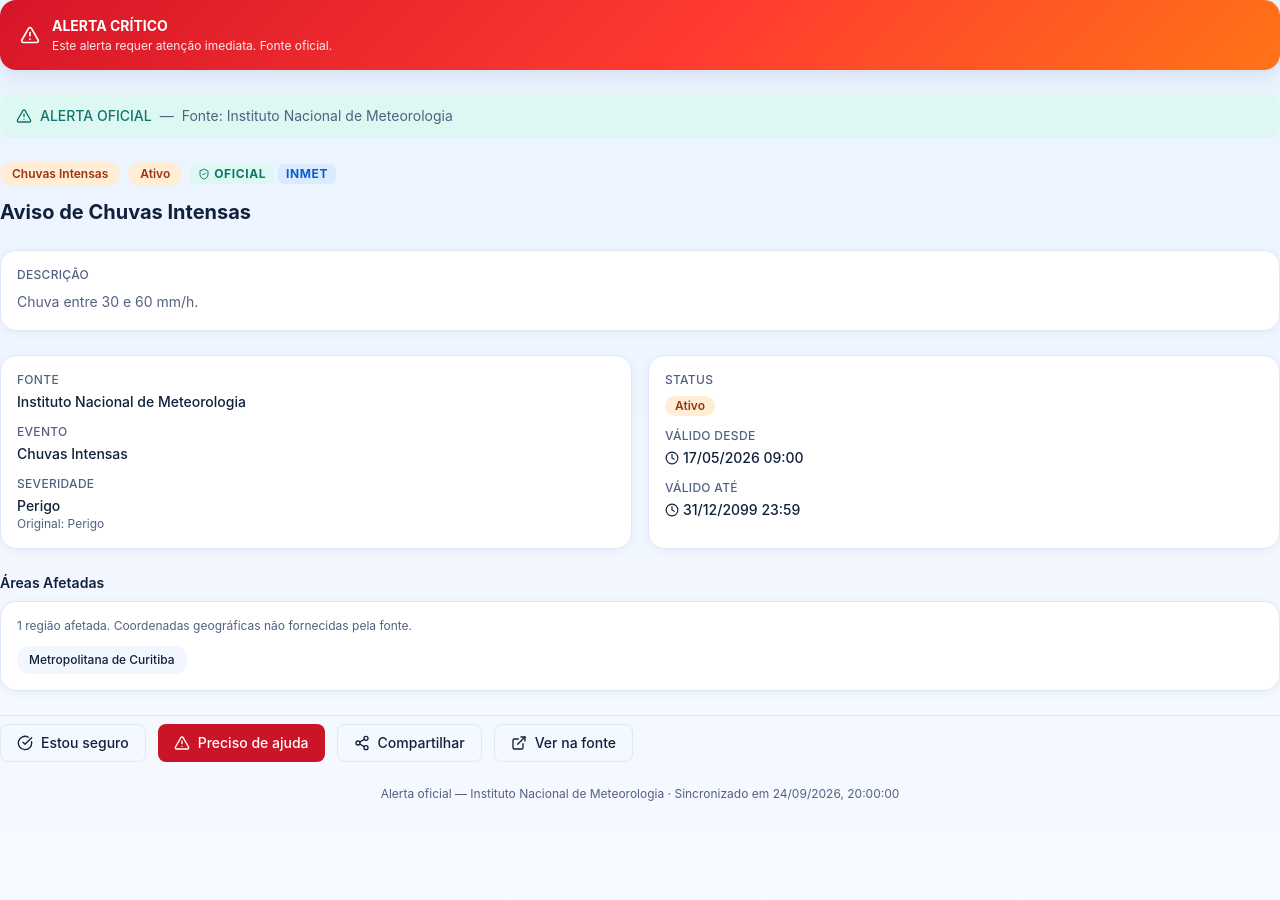
Test: OfficialAlertDetail citizen actions › "Preciso de ajuda" opens a dialog with official emergency numbers and no fake submission
Click the button "Preciso de ajuda" at x=241, y=743, box [158,724,324,762]
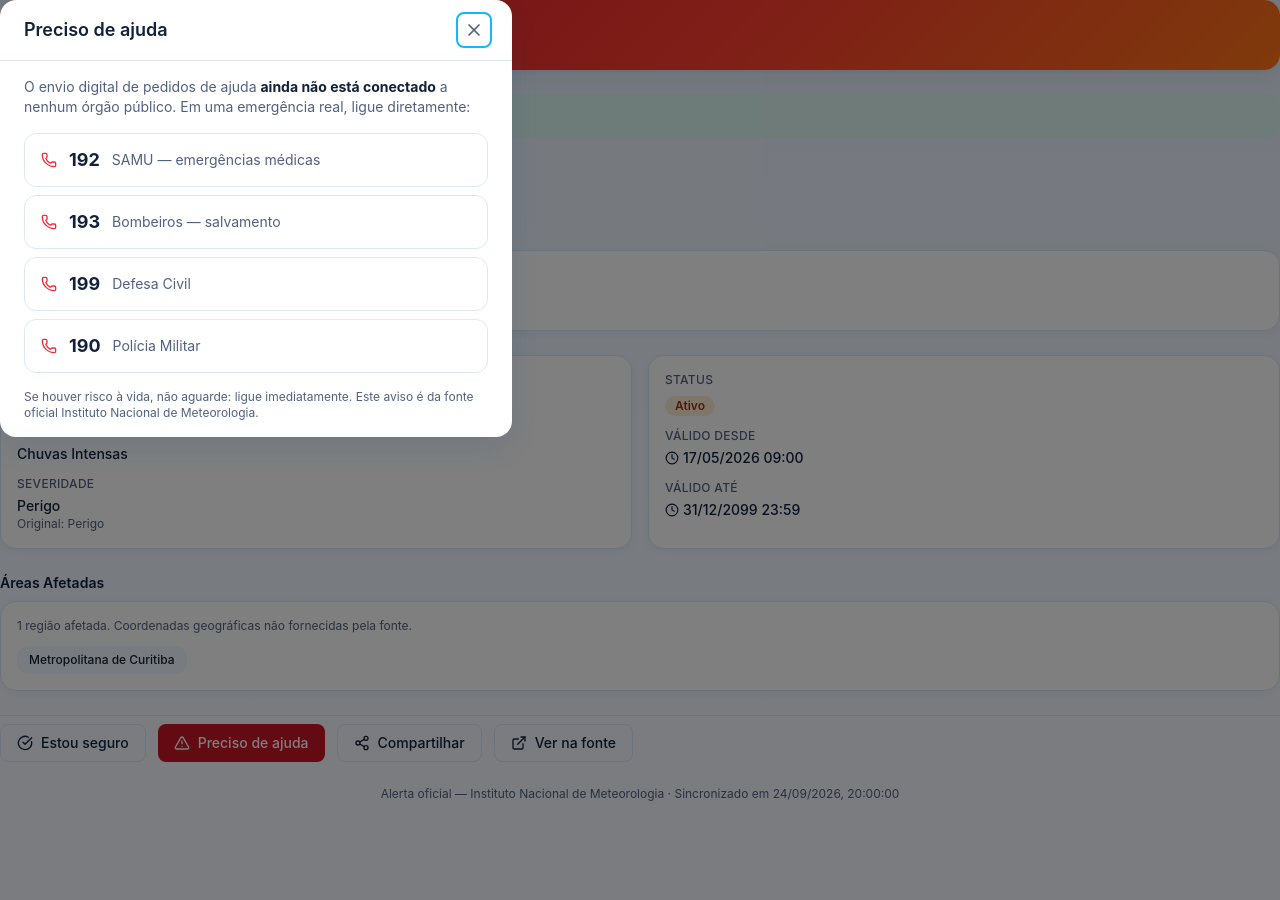
Result: the dialog shows "192" at [24,133,488,187]
Result: the dialog shows "193" at [24,195,488,249]
Result: the dialog shows "199" at [24,257,488,311]
